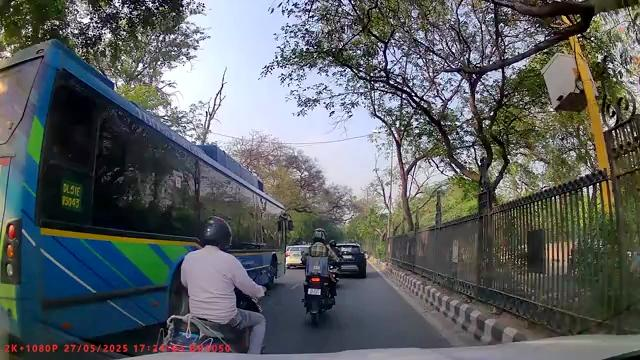motorcycle_with_helmet: (159, 215, 268, 351), (300, 227, 340, 325)
